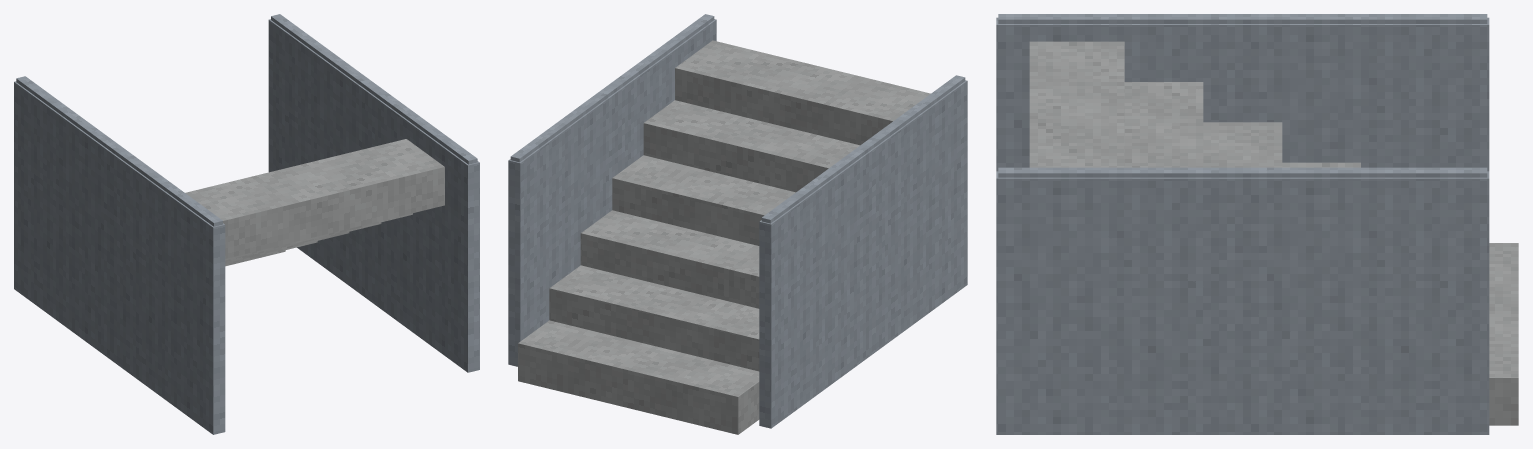
File: level_blockout_lighthouse_service_step.glb
3 renders of one model, left to right at view 1: azimuth 30°, elevation 25°; view 2: azimuth 150°, elevation 25°; view 3: azimuth 270°, elevation 25°, orthographic. The views are drawn at different scales.
Parts seen in each view (by area): view 1: level_blockout_lighthouse_service_step; view 2: level_blockout_lighthouse_service_step; view 3: level_blockout_lighthouse_service_step.
Part boxes in pixels (box(x1,y1,x2,y2)): level_blockout_lighthouse_service_step: box(14, 14, 479, 434); level_blockout_lighthouse_service_step: box(508, 14, 967, 434); level_blockout_lighthouse_service_step: box(996, 14, 1518, 434).
Size of the model in its own units: 1.88 by 1.45 by 2.59.
2 materials, 2 textured.
